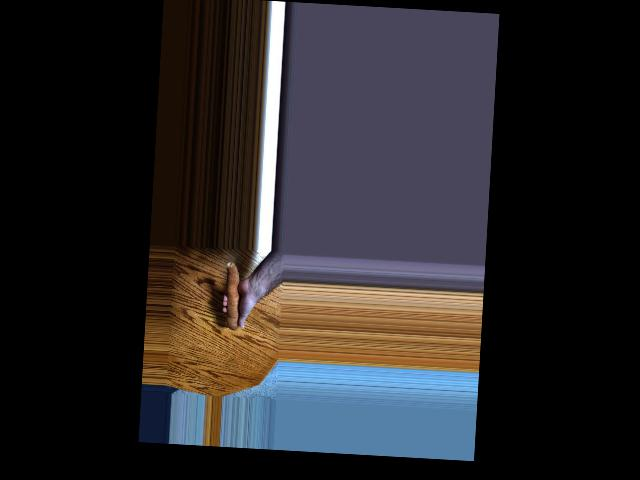sweet_potato: (224, 260, 248, 328)
